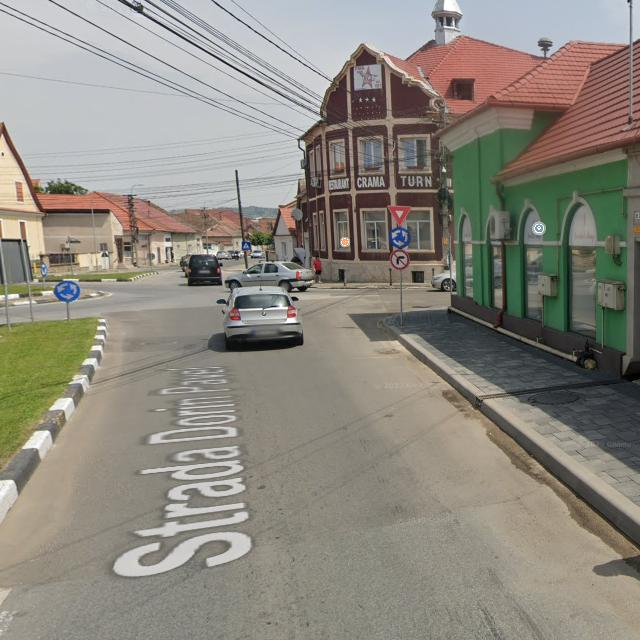forb_right: (390, 250, 410, 270)
info_crosswalk: (242, 242, 251, 250)
mand_roundabout: (54, 280, 80, 302), (390, 228, 410, 248)
prio_give_way: (388, 205, 412, 227)
